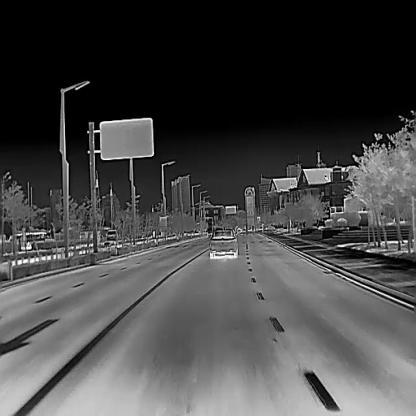car: (209, 228, 237, 259), (8, 230, 50, 249), (105, 227, 116, 241)
